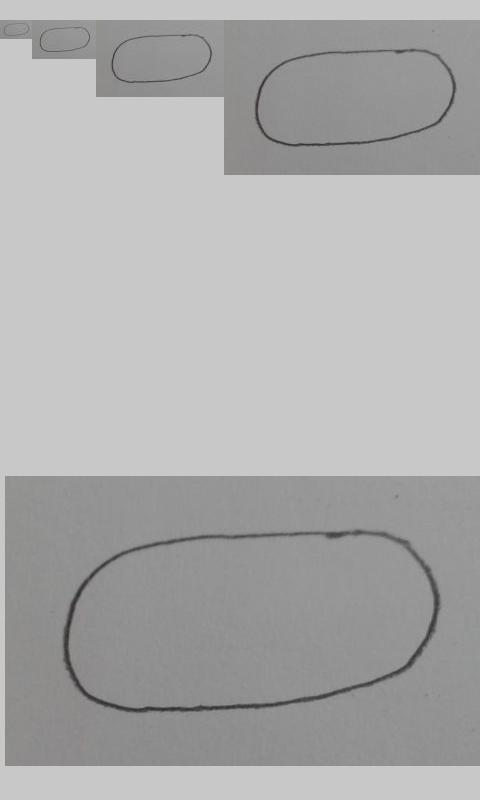chip: (61, 527, 443, 713), (255, 48, 457, 148), (110, 33, 213, 83), (39, 26, 91, 53), (3, 22, 30, 36)
